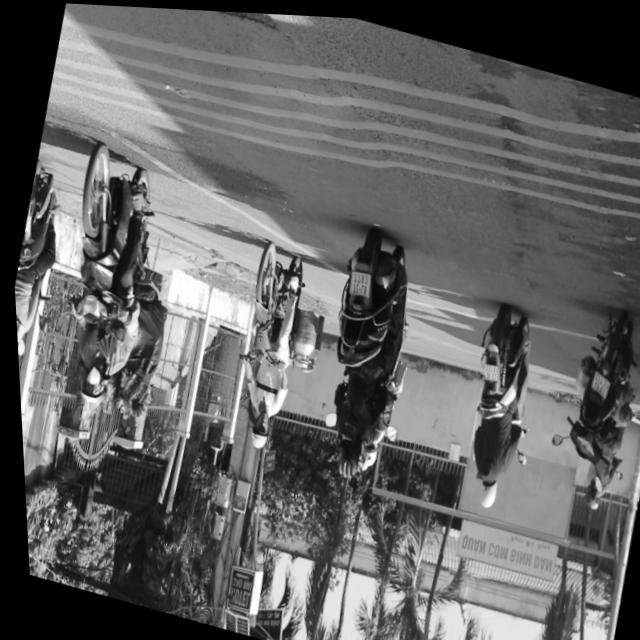helmet: (69, 360, 106, 416), (326, 432, 357, 479), (240, 407, 268, 449), (347, 436, 370, 475), (468, 472, 493, 506)
licenseplate: (25, 135, 176, 423), (289, 216, 432, 488), (209, 236, 319, 457), (439, 296, 548, 513), (6, 159, 78, 384)
nohelmet: (343, 267, 369, 296), (478, 357, 497, 377)
